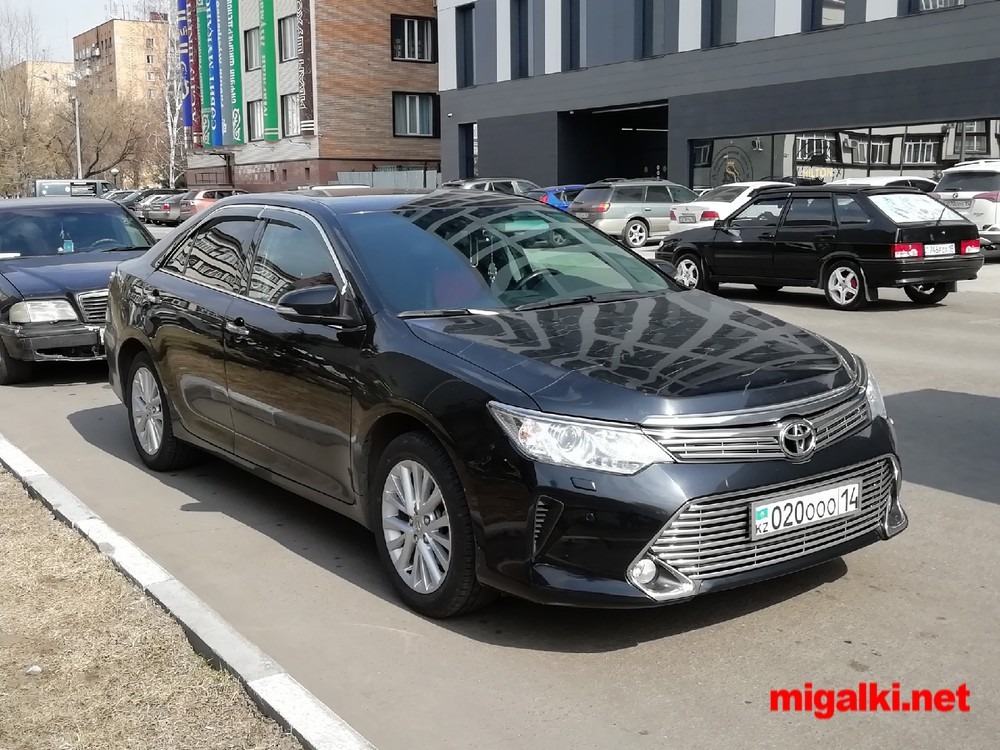license_plate: (745, 485, 862, 527)
